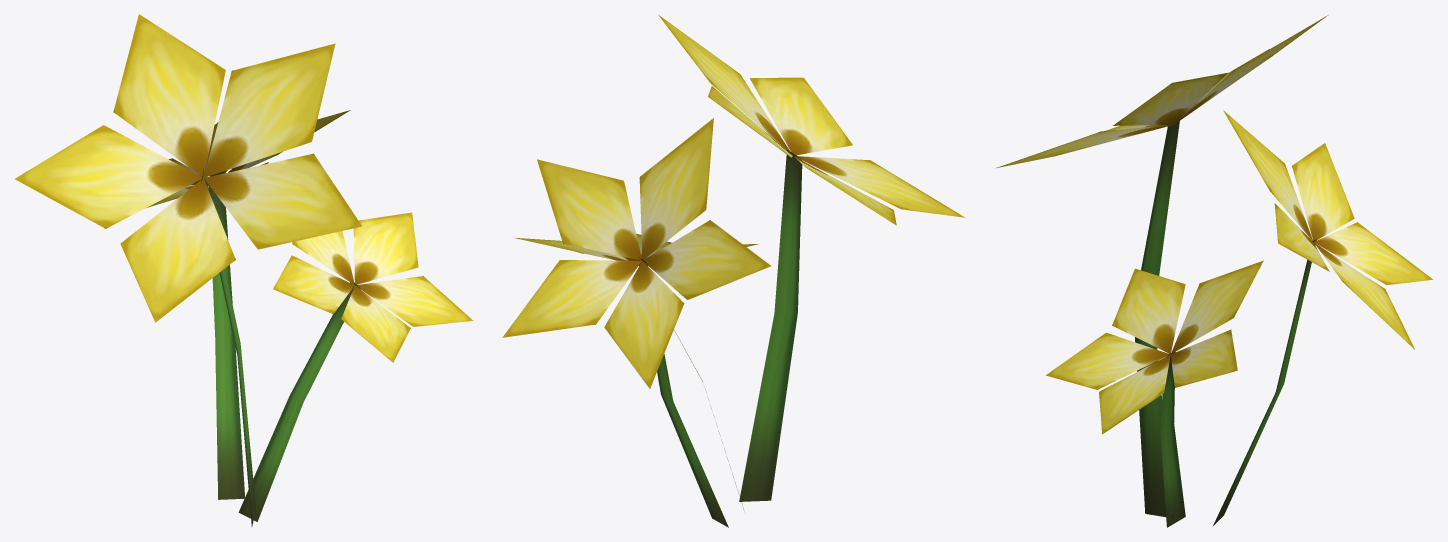
File: Garden_flower_yellow.fbx
3 renders of one model, left to right at view 1: azimuth 30°, elevation 25°; view 2: azimuth 150°, elevation 25°; view 3: azimuth 270°, elevation 25°, orthographic. The views are drawn at different scales.
Visible parts, largest first — view 1: Garden_flower_yellow; view 2: Garden_flower_yellow; view 3: Garden_flower_yellow.
Part boxes in pixels (x1,y1,x2,y2): Garden_flower_yellow: (15,14,473,526); Garden_flower_yellow: (502,14,964,527); Garden_flower_yellow: (996,15,1432,527).
Bounding box in the file's own units: 35.31 × 40.76 × 32.96.
1 material, 1 textured.
